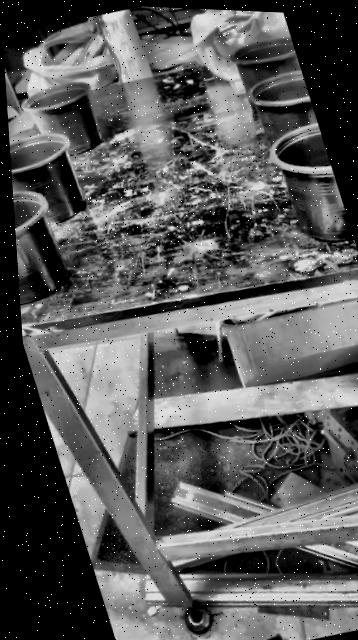pot: (263, 121, 357, 256), (12, 184, 77, 311), (22, 79, 108, 162), (10, 133, 84, 222), (248, 71, 318, 146), (231, 37, 301, 92)
